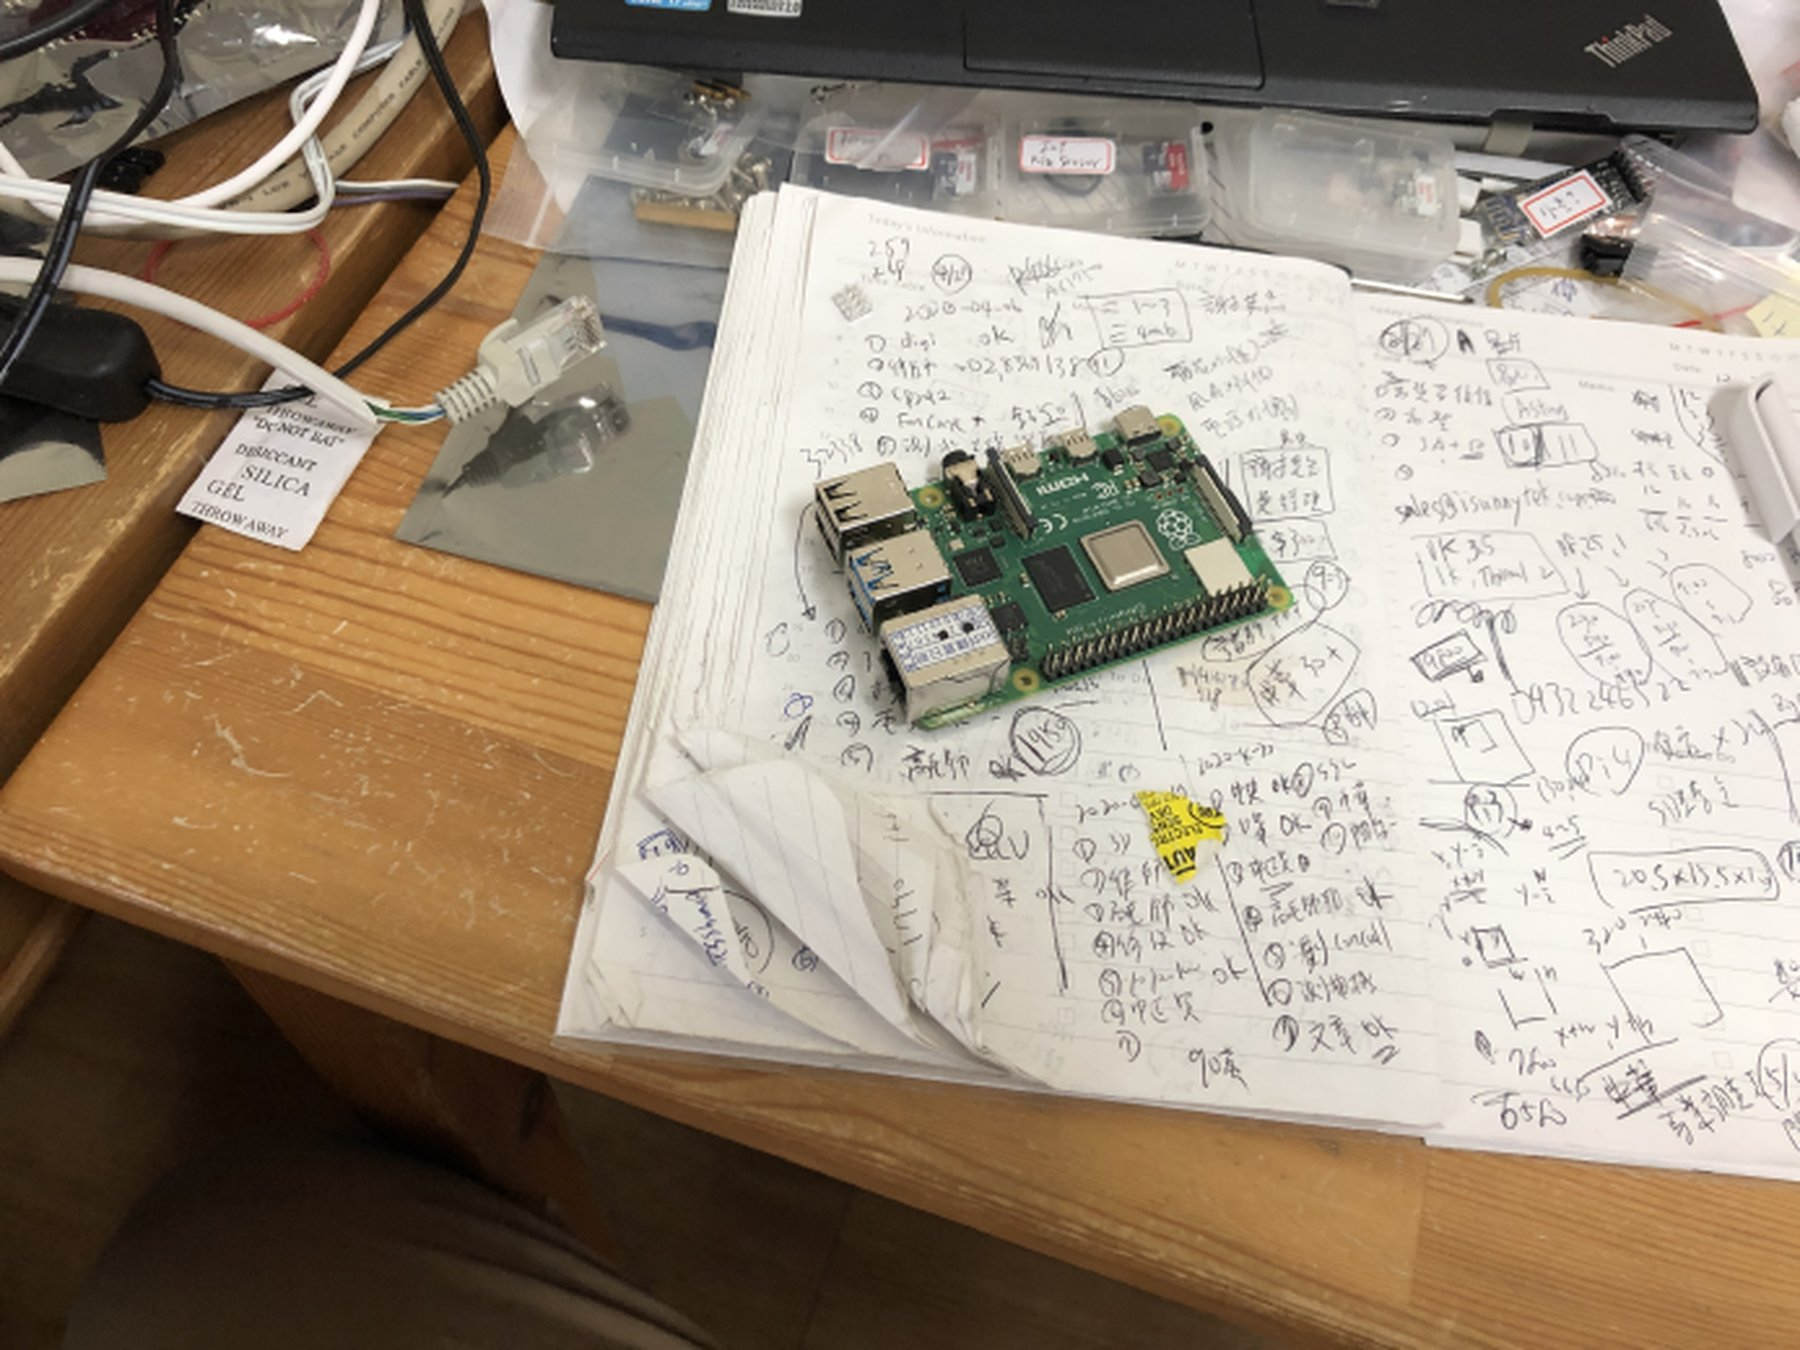pi: (802, 396, 1300, 739)
